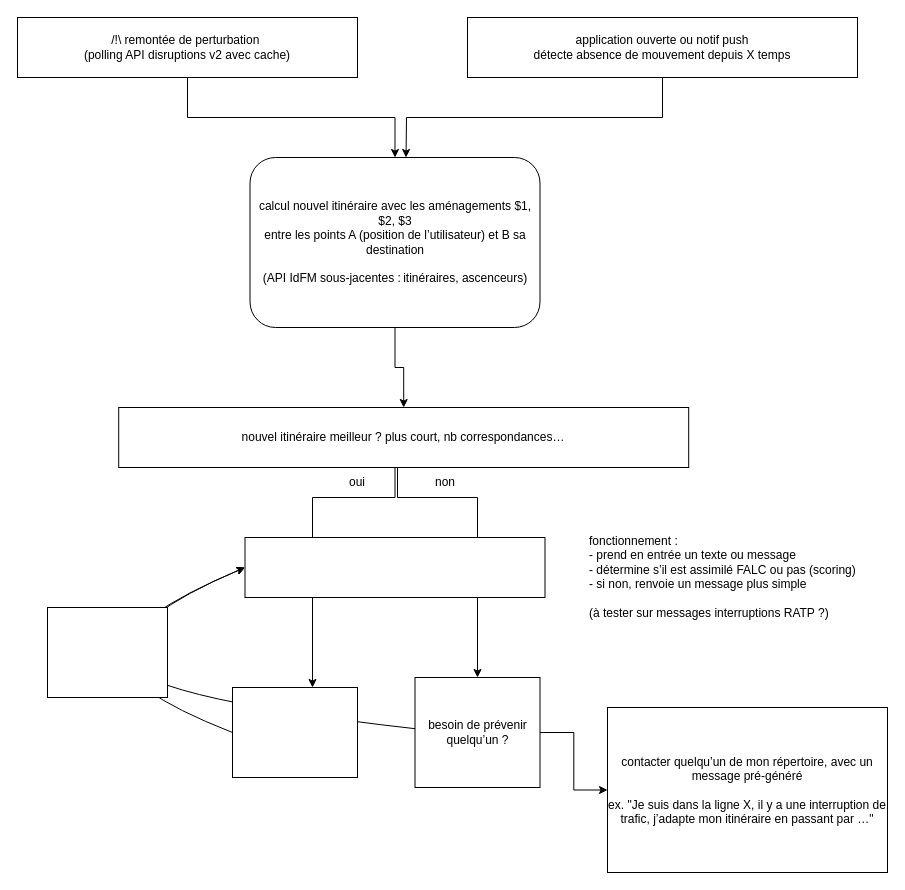
Image size: 905x890. Some labels were removed from this diagram. Here are the shapes that lost their labels. From the top down, the centre of each, then its label:
[394,567]: LLM FALC
[107,652]: retour utilisateur simple (bouton "pas compris")
[295,732]: nouvel itinéraire + guidage ?
